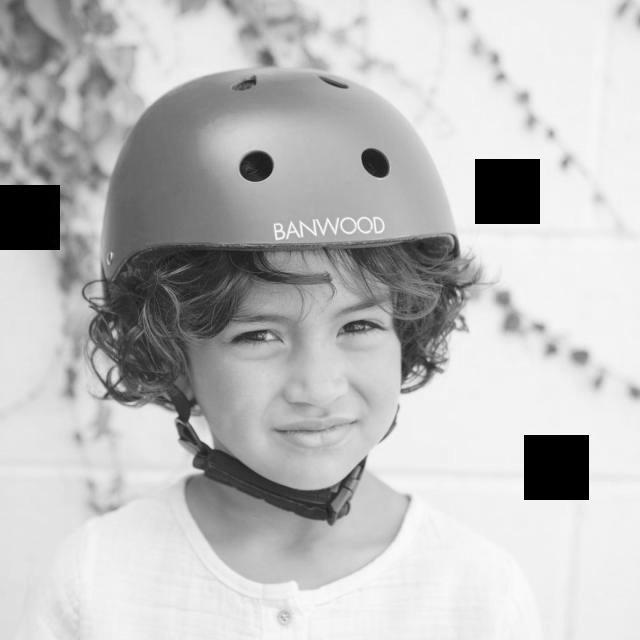helmet: (98, 64, 458, 289)
